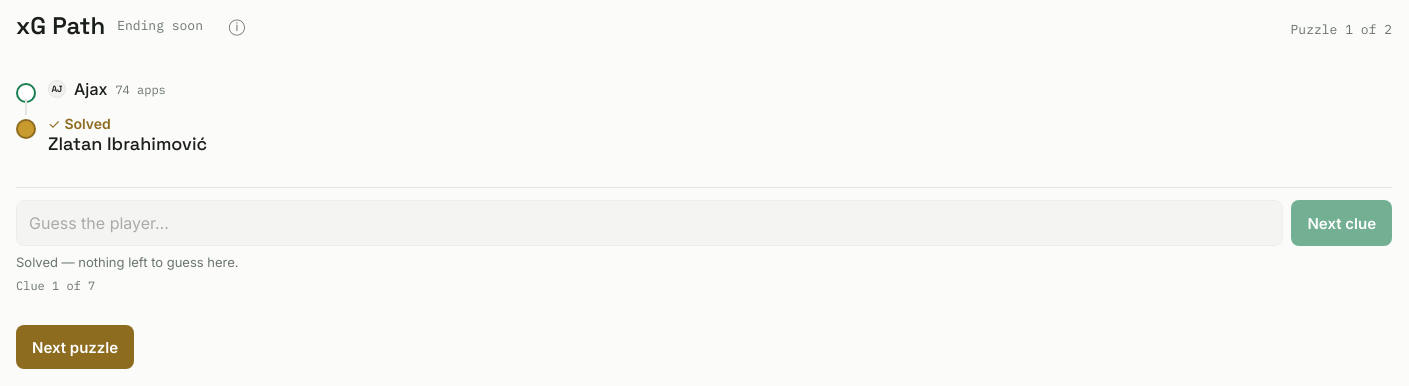
Test: PathScreen › "Next puzzle" is an explicit action, never automatic, and advances to the next puzzle in the round
Check: the text "Puzzle 1 of 2" is shown, box [1291,20,1392,38]
Check: the text "Barcelona" is not shown
Click the button "Next puzzle". click: (75, 347)
box: [16,325,134,369]
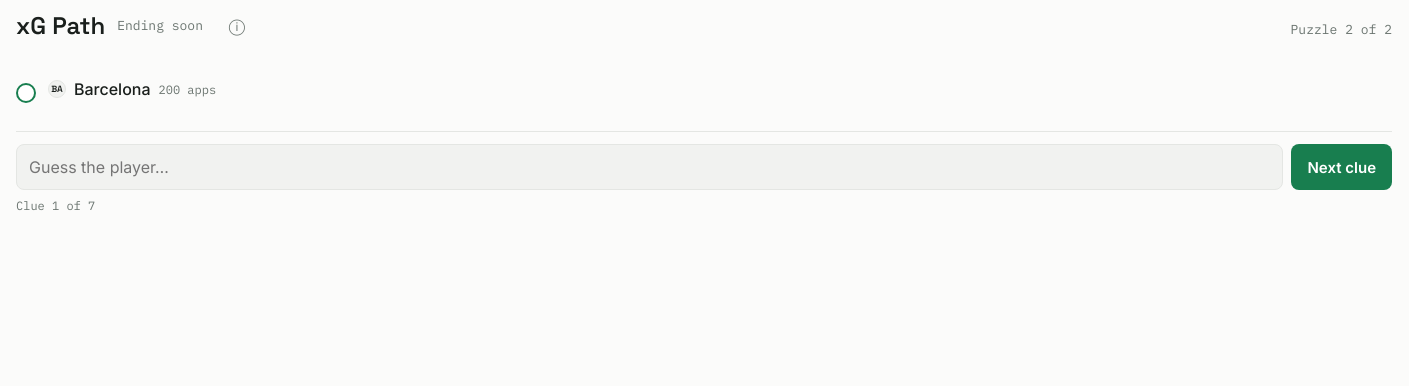
Check: the text "Puzzle 2 of 2" is shown, box [1291,20,1392,38]
Check: the text "Barcelona" is shown, box [74,79,150,99]
